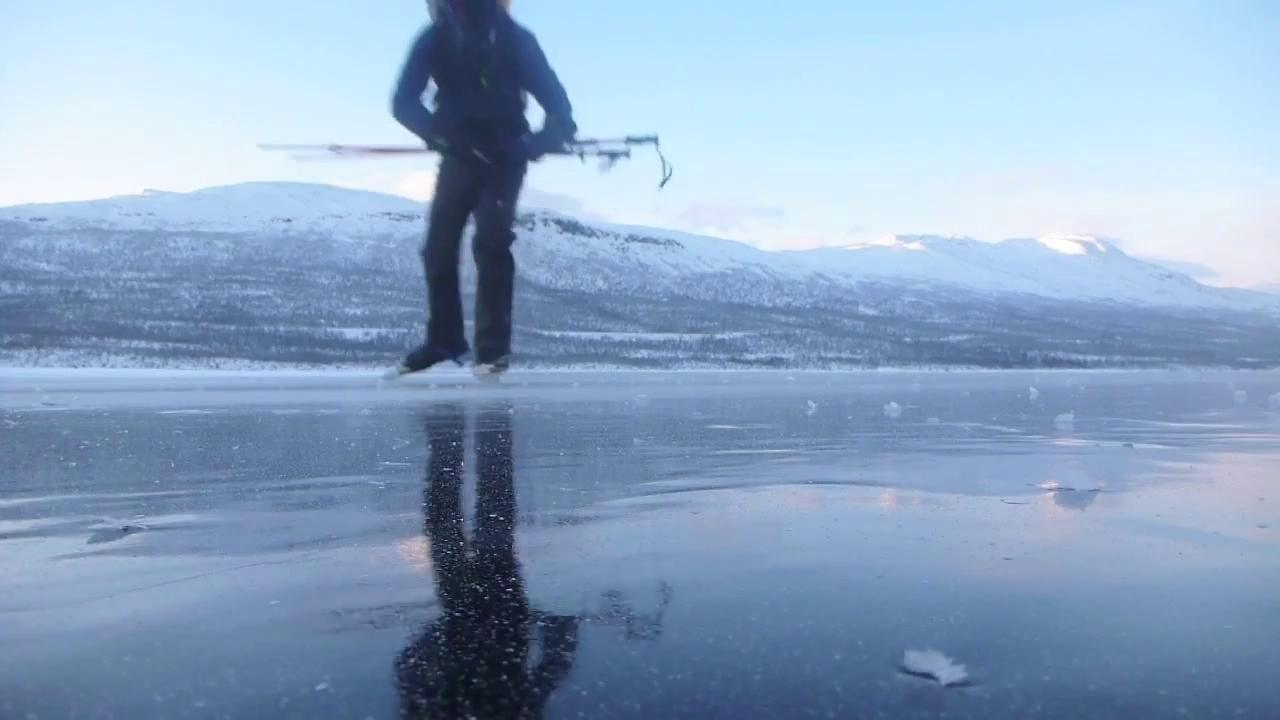victim: (358, 1, 582, 394)
